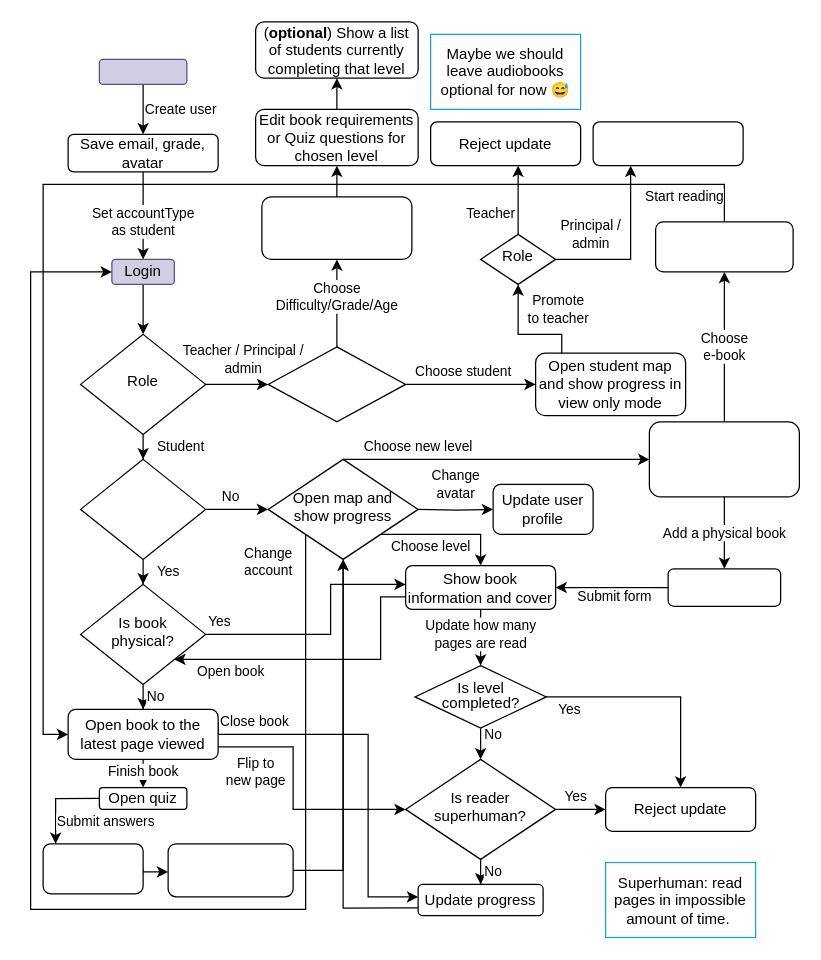
Some shapes in this 821 by 960 pixel diagram are drawn without their labels. The centre of each missing label's shape, as x and y in pixels:
"Choose from levels corresponding to that difficulty/grade/age" belongs at point (336, 227).
"Continue reading?" belongs at point (142, 508).
"Open book details (10 page preview?)" belongs at point (723, 246).
"Open teacher UI" belongs at point (336, 384).
"Save completion, give reward, unlock next level" belongs at point (230, 869).
"Show a form for adding a book" belongs at point (724, 587).
"Show a list of available books and an option to add a physical book" belongs at point (723, 459).
"Show reward animation" belongs at point (92, 868).
"Sign up" belongs at point (142, 71).
"Update accountType" belongs at point (667, 143).
